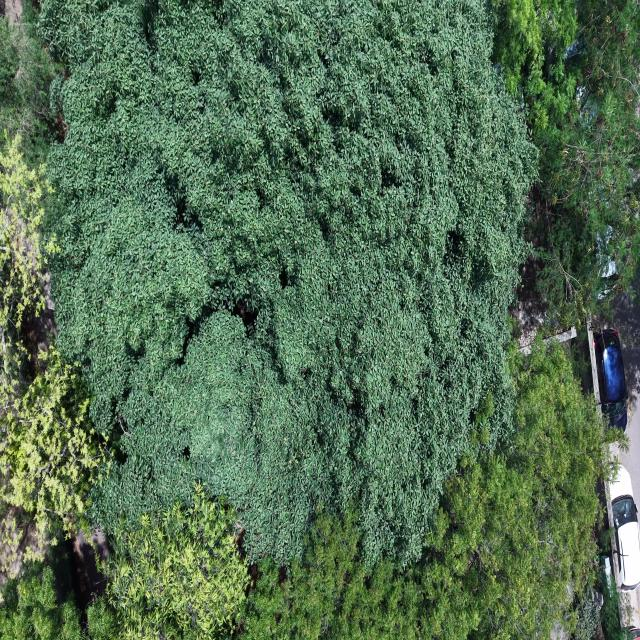VEGETATION_TREE: (0, 0, 638, 639), (40, 0, 536, 564), (0, 338, 613, 639), (243, 339, 614, 639), (0, 19, 117, 639), (0, 19, 104, 638), (493, 0, 639, 326), (0, 136, 103, 566), (537, 0, 639, 325), (242, 511, 453, 639), (106, 487, 249, 639), (0, 347, 104, 543), (0, 136, 56, 411), (489, 0, 580, 155), (0, 562, 119, 639), (0, 18, 59, 167), (0, 563, 81, 639), (592, 528, 633, 639), (597, 571, 630, 639), (85, 597, 121, 640), (574, 588, 601, 639)
